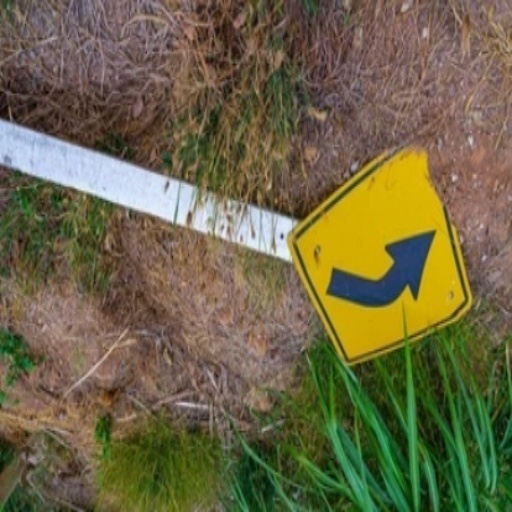Turn right: (294, 197, 454, 340)
